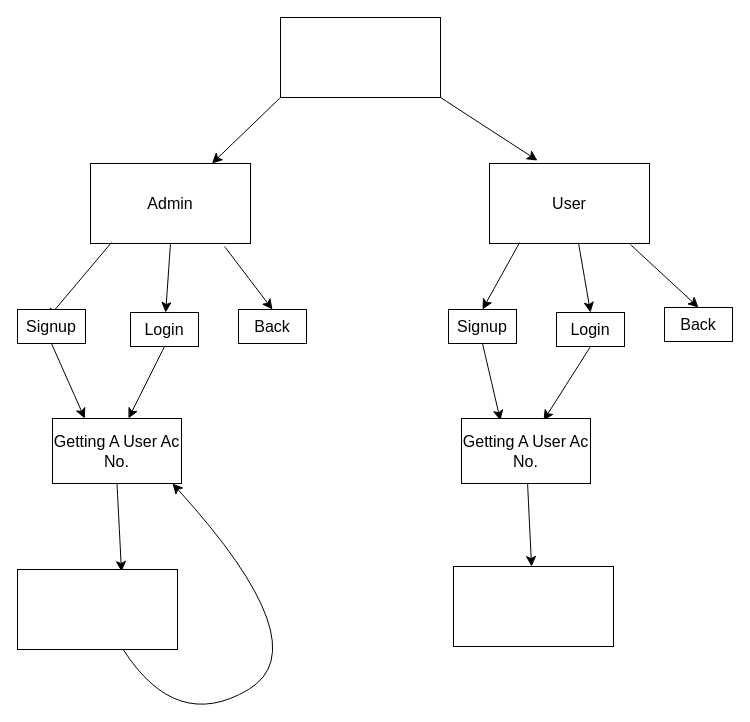
Image size: 750x722. Some labels were removed from this diagram. The shapes that lost their labels are listed below. From the top down, each one's box as (x1, y1, x2, y2) in pixels, then its label:
(280, 16, 440, 98): First Choice of User/Admin
(16, 568, 178, 650): Displaying User Creds and Adding or Removing Cash
(452, 566, 614, 646): Just Displaying Cash and Withdrawing Cash
